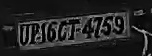1: (41, 22, 47, 44)
4: (82, 17, 94, 43)
5: (101, 16, 115, 38)
6: (46, 19, 58, 44)
7: (93, 16, 104, 42)
9: (112, 15, 126, 38)
C: (56, 20, 69, 44)
P: (28, 21, 41, 47)
T: (68, 19, 79, 42)
U: (18, 24, 29, 48)
